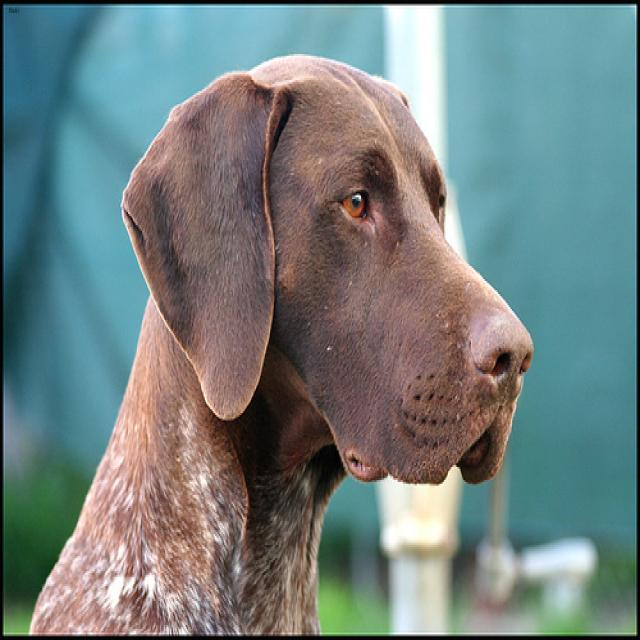dog-german_shorthaired: (19, 41, 539, 636)
